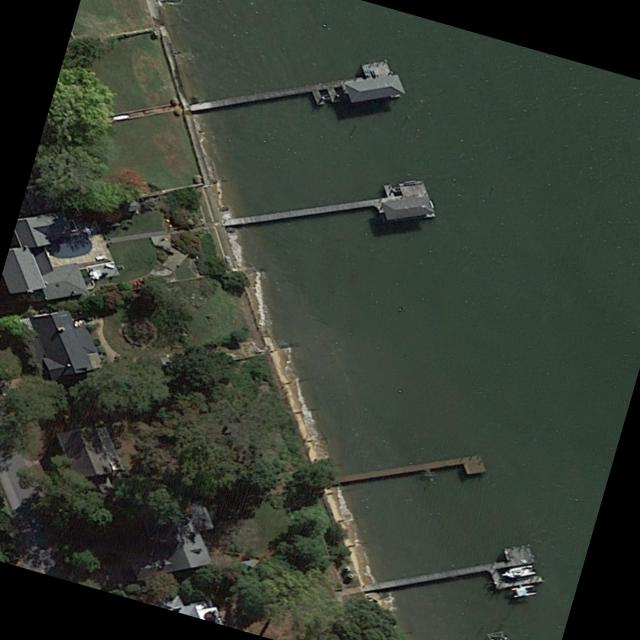ship: (498, 562, 536, 578), (508, 583, 537, 596)
